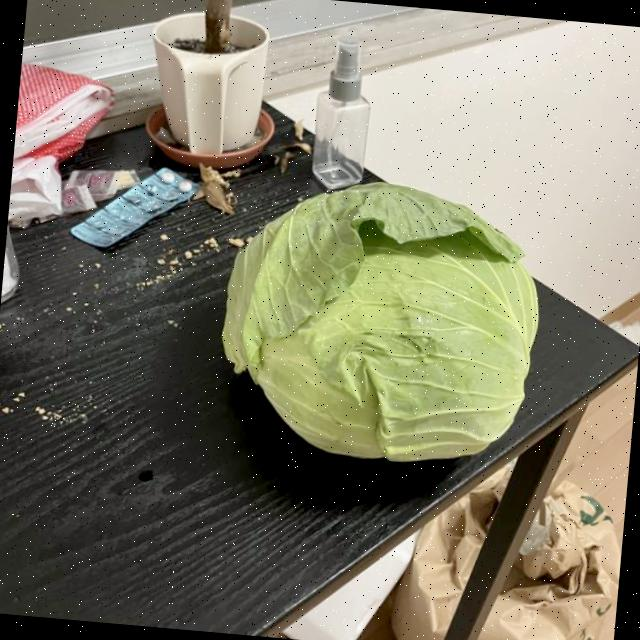cabbage: (204, 167, 554, 478)
